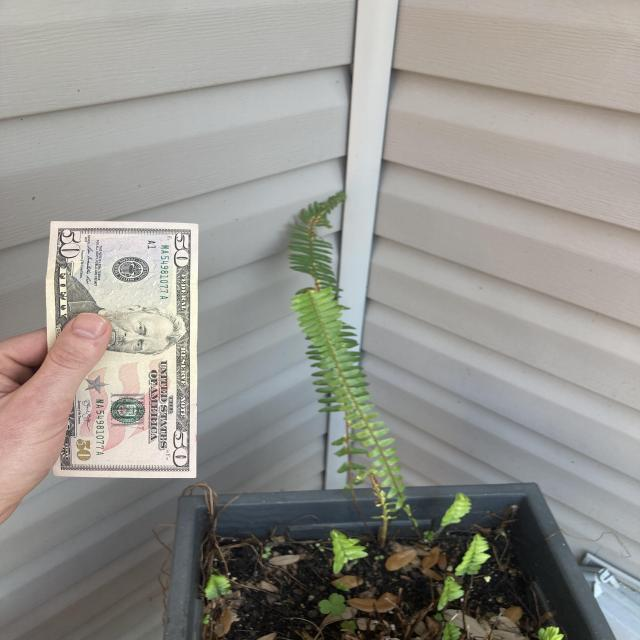fifty: (49, 221, 200, 477)
